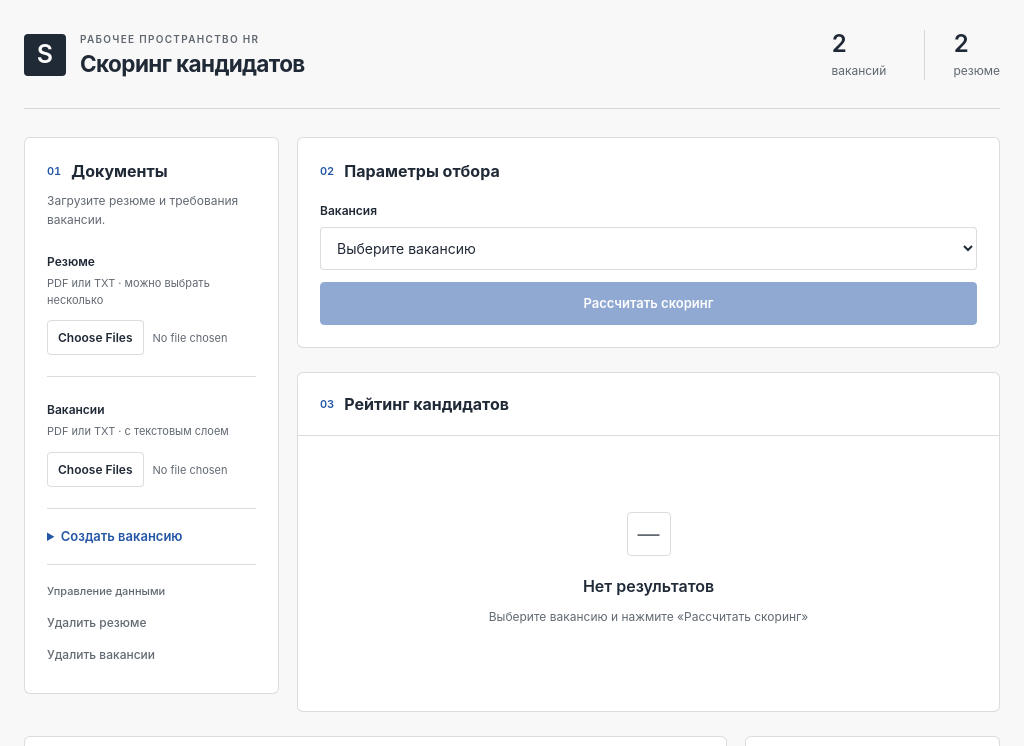
Test case: a late HR save cannot change the decision or history in another card
The width and height of the screenshot is (1024, 746).
Select "First vacancy (ID: v1)" in the dropdown at (648, 248), box [320,227,977,270]
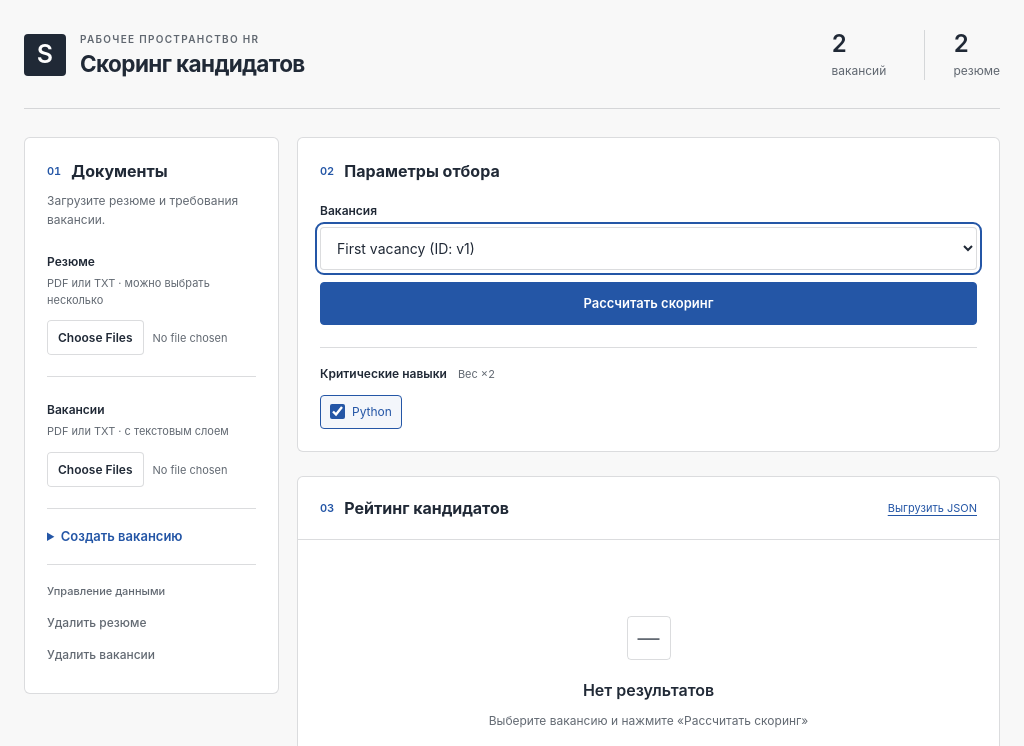
Click the button "Рассчитать скоринг" at (648, 304), box [320,282,977,325]
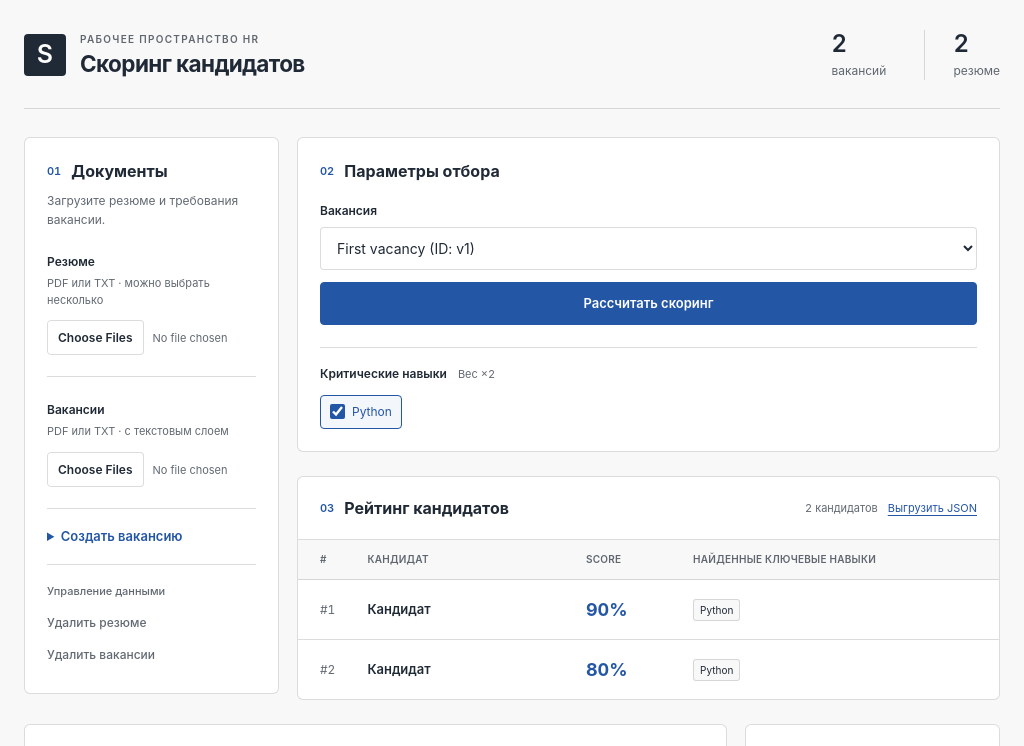
Click the row "#1 Кандидат 90% Python" at (648, 610), box [298,580,999,640]
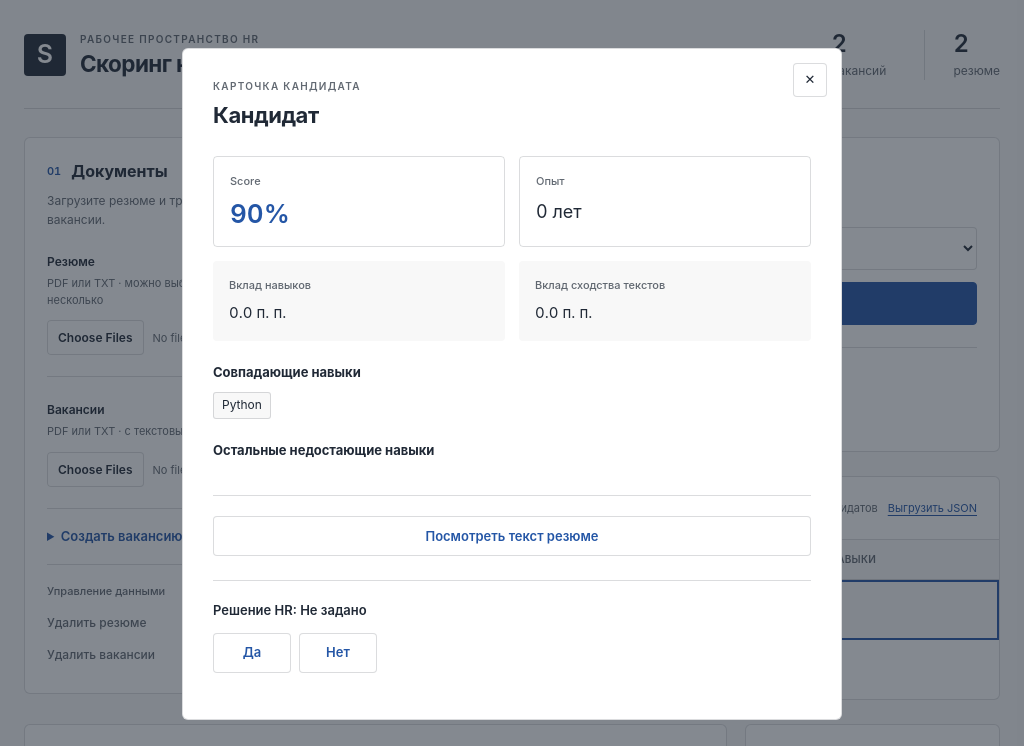
Click the button "Да" at (252, 653), box [213,633,291,673]
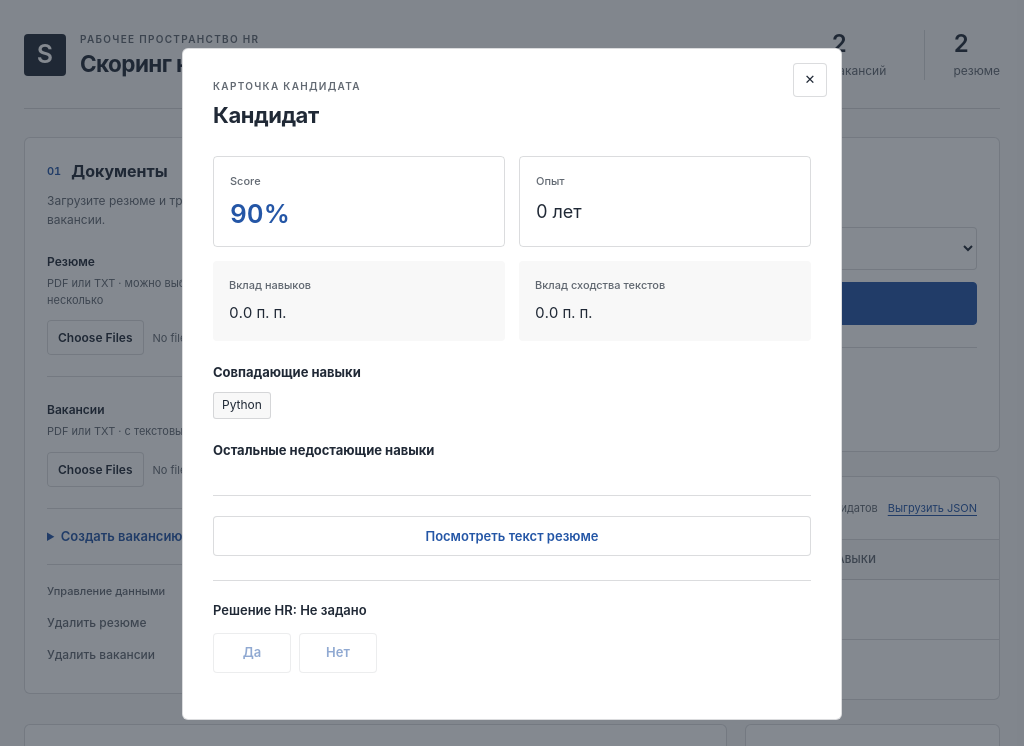
Check: the button "Нет" is disabled, box [299,633,377,673]
Click the button "✕" at (810, 80), box [793,63,827,97]
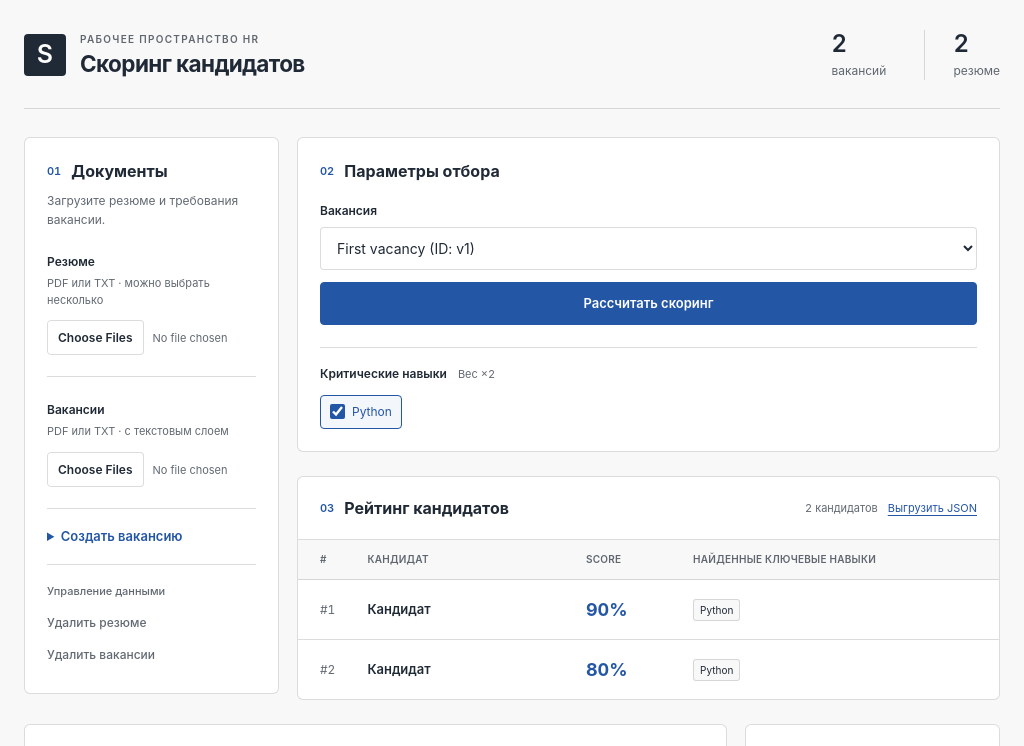
Click the row "#2 Кандидат 80% Python" at (648, 670), box [298,640,999,699]
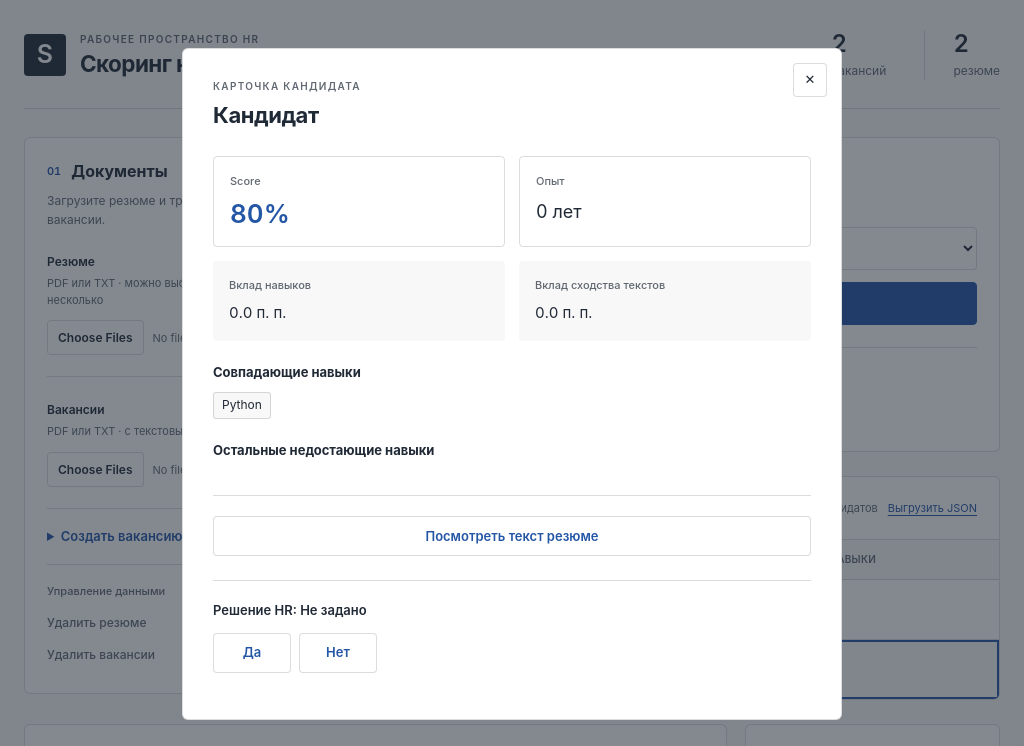
Check: the text "Решение HR: Не задано" is shown, box [213,602,367,618]
